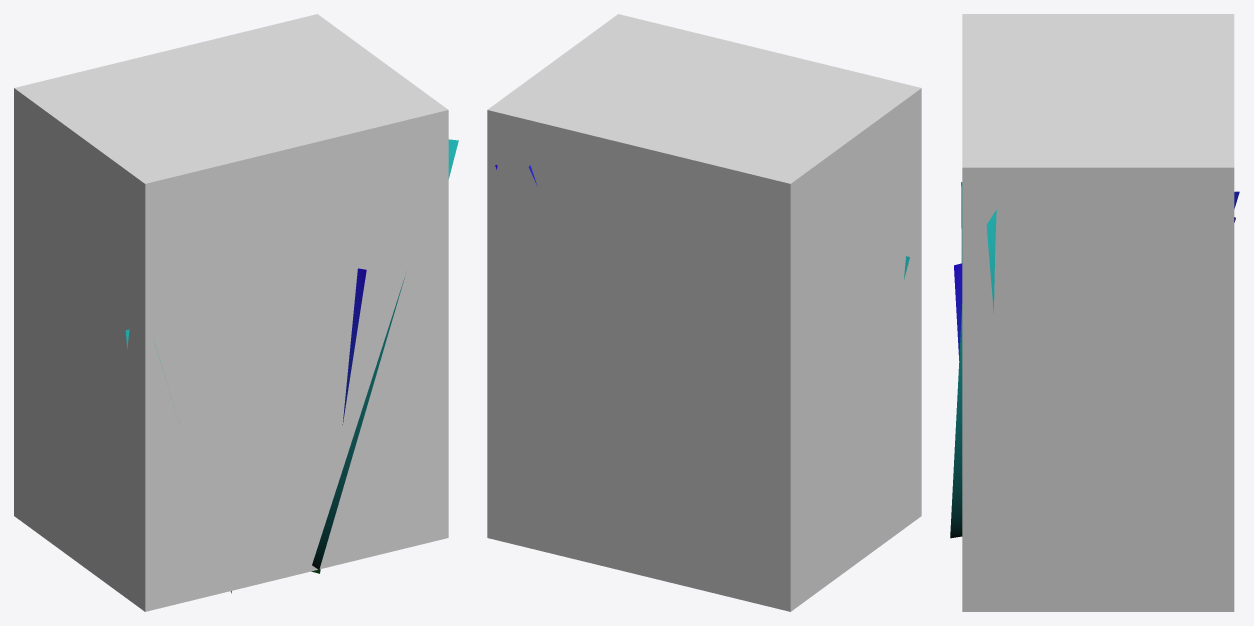
Rendered from lush_grass_01_a.dae.
The picture shows the model from 3 angles, left to right: view 1: azimuth 30°, elevation 25°; view 2: azimuth 150°, elevation 25°; view 3: azimuth 270°, elevation 25°; orthographic projection. The views are drawn at different scales.
Parts seen in each view (by area): view 1: Untitled, tree_oak_bush_a80; view 2: Untitled; view 3: Untitled, tree_oak_bush_a80.
Boxes of the visible parts, x1,y1,x2,y2 form: Untitled: [14, 14, 448, 611]; tree_oak_bush_a80: [125, 139, 458, 593]; Untitled: [487, 14, 921, 611]; Untitled: [962, 14, 1234, 611]; tree_oak_bush_a80: [950, 182, 1239, 538].
Size of the model in its own units: 0.6877 by 0.5047 by 0.9057.
